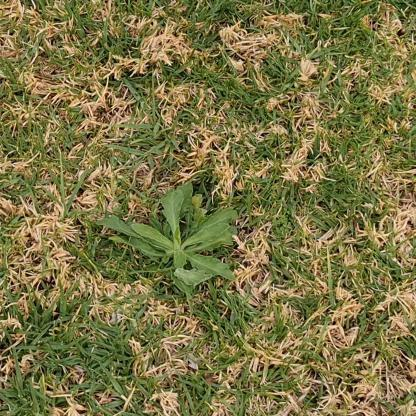Weeds: (97, 181, 237, 308)
